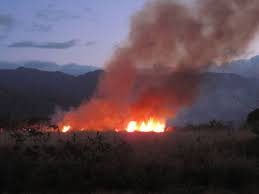fire: (64, 113, 171, 135)
